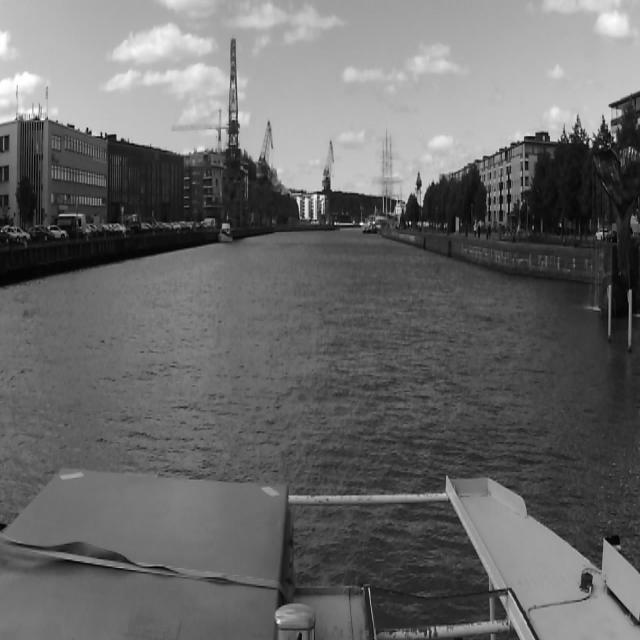ship: (375, 129, 403, 227), (218, 217, 232, 247)
